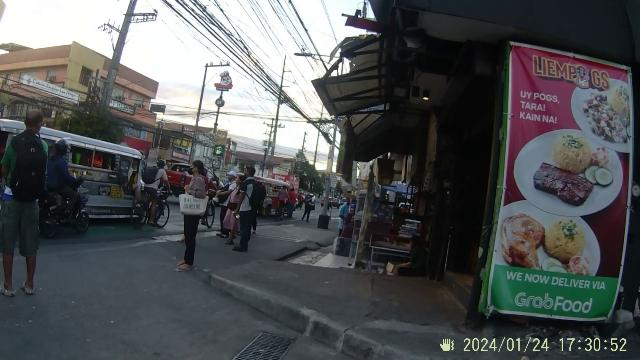street_vendor_cart: (482, 33, 628, 327)
utility_post: (100, 0, 160, 88)
